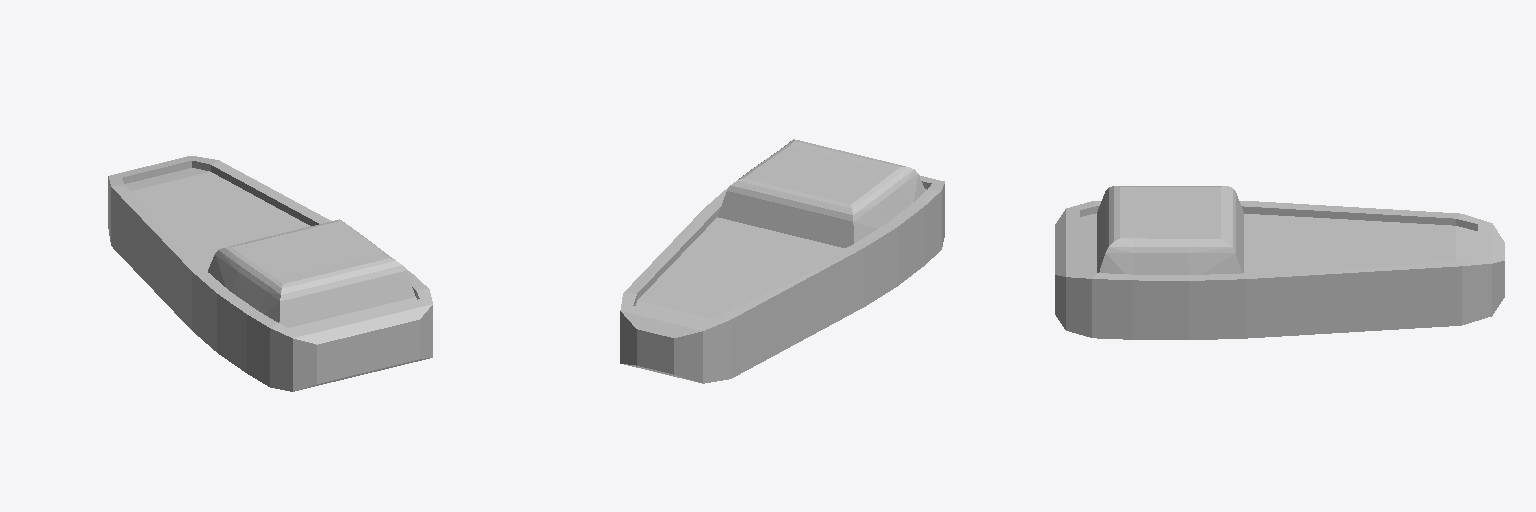
The model's file is mShip2.obj.
3 renders of one model, left to right at view 1: azimuth 30°, elevation 25°; view 2: azimuth 150°, elevation 25°; view 3: azimuth 270°, elevation 25°, orthographic.
Bounding box in the file's own units: 0.0368 × 0.0182 × 0.0853.